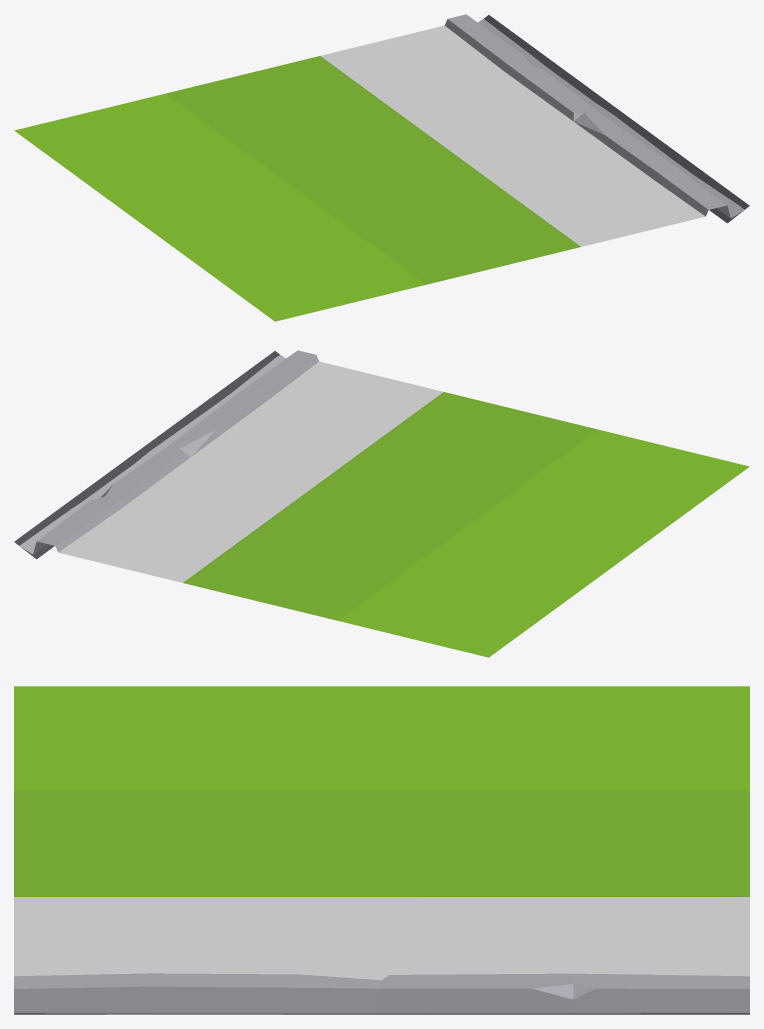
Rendered from sidewalk_1_5.fbx.
3 renders of one model, top to bottom at view 1: azimuth 30°, elevation 25°; view 2: azimuth 150°, elevation 25°; view 3: azimuth 270°, elevation 25°, orthographic. The views are drawn at different scales.
Visible parts, largest first — view 1: sidewalk_1_5; view 2: sidewalk_1_5; view 3: sidewalk_1_5.
Boxes of the visible parts, left/top/right/bottom form: sidewalk_1_5: left=14, top=14, right=749, bottom=321; sidewalk_1_5: left=14, top=350, right=749, bottom=657; sidewalk_1_5: left=14, top=686, right=749, bottom=1014.
Size of the model in its own units: 1050 by 41.09 by 1000.
